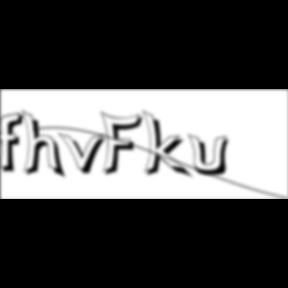F: (101, 110, 149, 178)
f: (1, 111, 30, 175)
h: (22, 108, 68, 182)
k: (142, 108, 196, 181)
u: (188, 132, 236, 178)
v: (58, 131, 112, 177)
